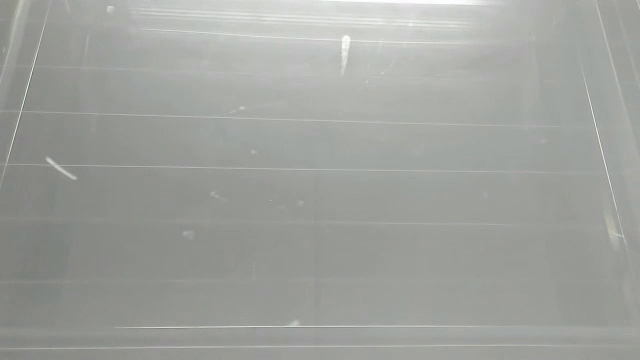alpha: (41, 153, 79, 186), (337, 31, 353, 77), (283, 316, 308, 331)
